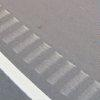Crosswalk: (5, 10, 85, 99)
